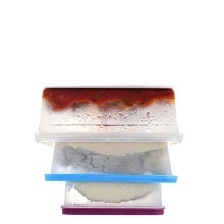plastic_box: (29, 82, 186, 153), (39, 135, 181, 187), (54, 176, 169, 221)
